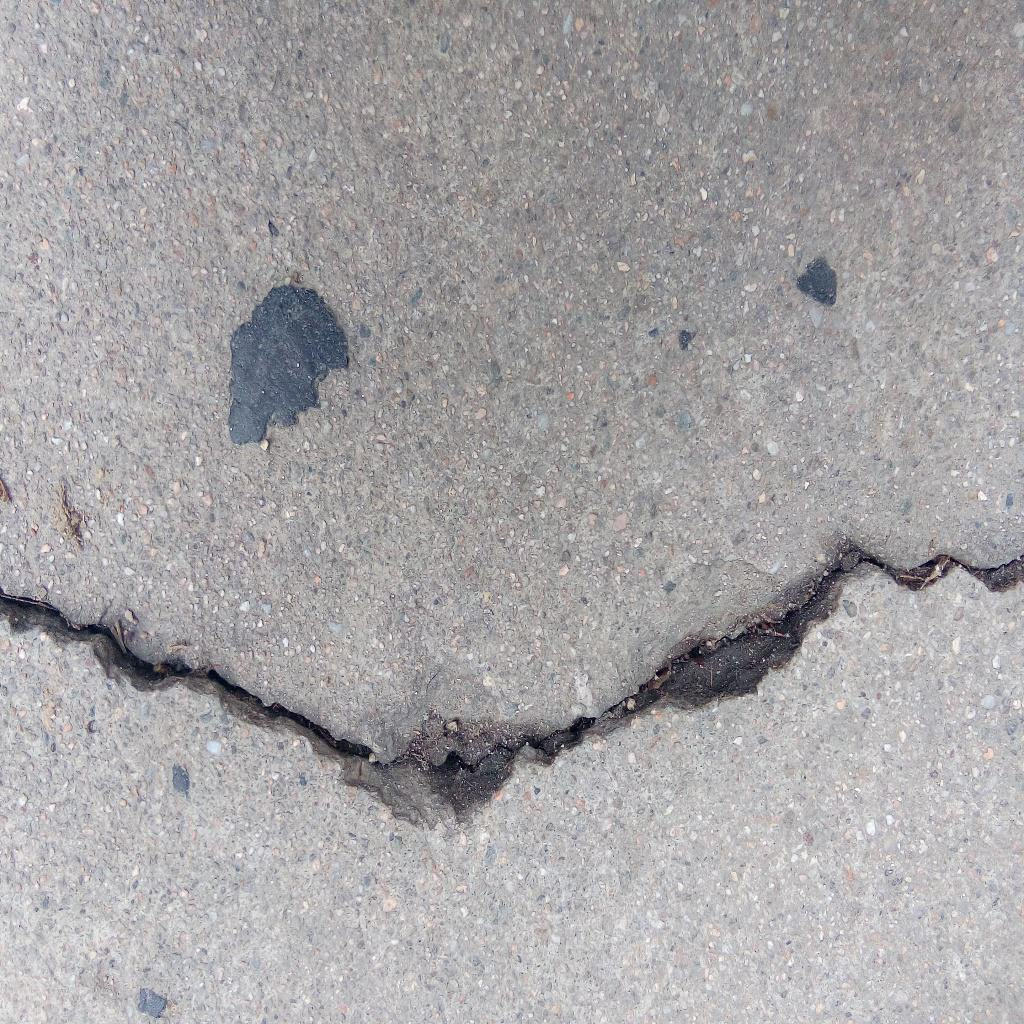Crack: (1, 533, 1024, 833)
